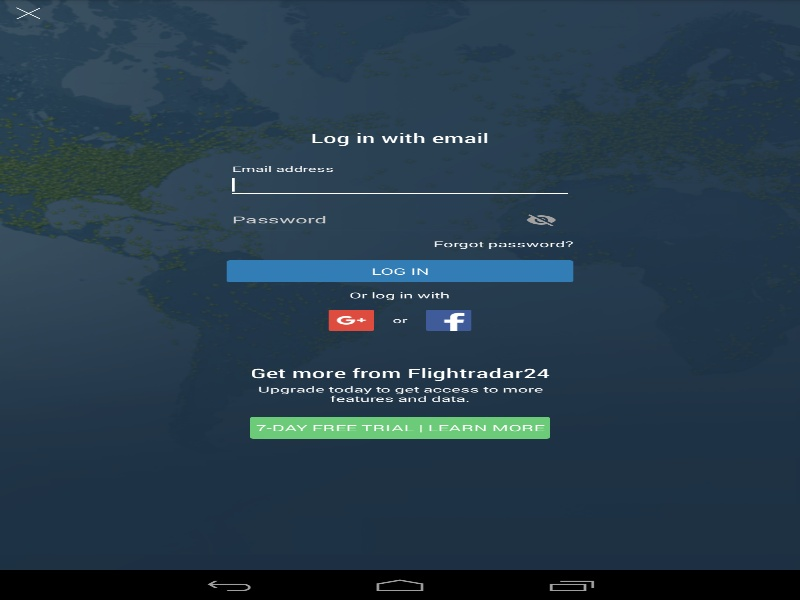Button: (226, 260, 573, 282), (250, 416, 550, 438), (509, 205, 573, 235)
Input: (226, 205, 573, 235), (226, 171, 573, 198)
